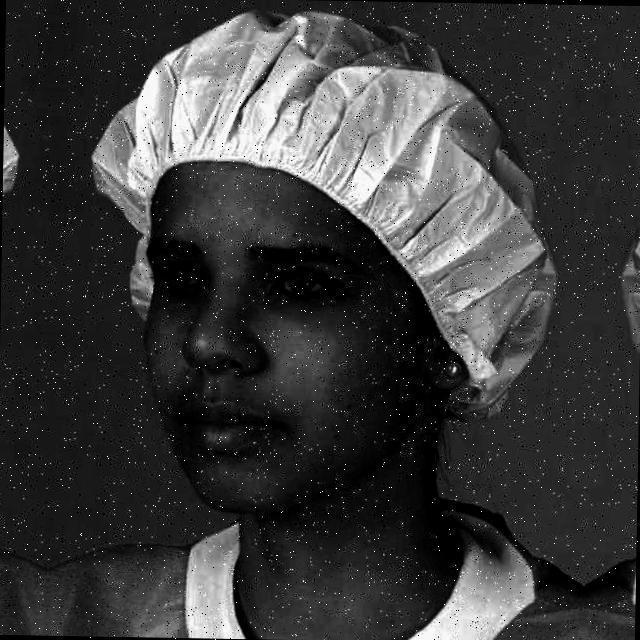gloves: (90, 21, 550, 233)
no_hairnet: (163, 303, 265, 483)
